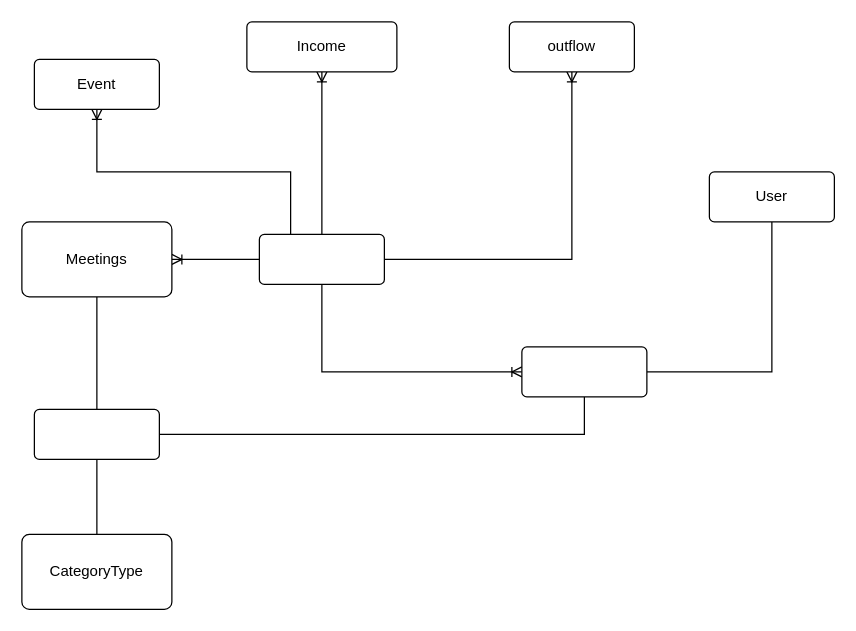
The diagram is 856 pixels wide and 631 high, and some of its shapes have lost their labels. Here are the shapes that lost their labels. From the top down, the centre of each, then its label:
At pixel 321 258: "Church".
At pixel 584 371: "Member".
At pixel 96 433: "Category".
